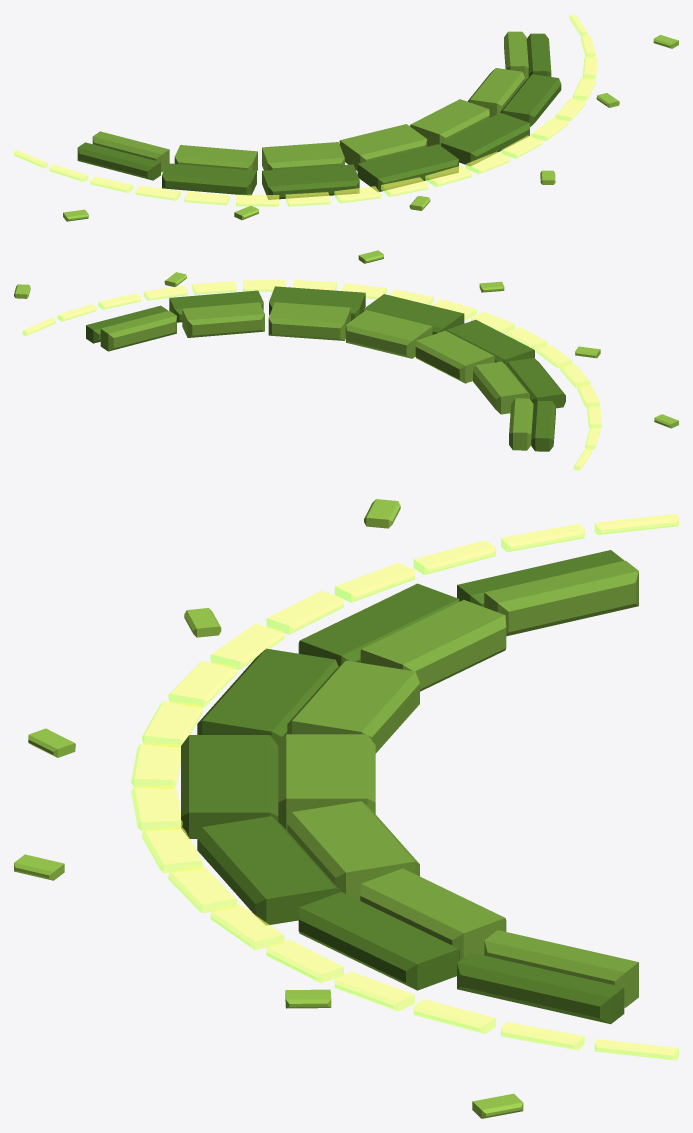
The model's file is fx_pet_leaf_slash.glb.
The picture shows the model from 3 angles, top to bottom: view 1: azimuth 30°, elevation 25°; view 2: azimuth 150°, elevation 25°; view 3: azimuth 270°, elevation 25°; orthographic projection. The views are drawn at different scales.
Parts seen in each view (by area): view 1: LeafSlash_LeavesDark, LeafSlash_LeavesLight, LeafSlash_GlowTrail, LeafSlash_Flecks; view 2: LeafSlash_LeavesLight, LeafSlash_LeavesDark, LeafSlash_GlowTrail, LeafSlash_Flecks; view 3: LeafSlash_LeavesDark, LeafSlash_LeavesLight, LeafSlash_GlowTrail, LeafSlash_Flecks.
Boxes of the visible parts, x1,y1,x2,y2 form: LeafSlash_LeavesDark: [77, 33, 561, 199]; LeafSlash_LeavesLight: [92, 31, 528, 172]; LeafSlash_GlowTrail: [14, 14, 597, 206]; LeafSlash_Flecks: [63, 35, 678, 221]; LeafSlash_LeavesLight: [100, 302, 533, 450]; LeafSlash_LeavesDark: [86, 286, 565, 451]; LeafSlash_GlowTrail: [22, 280, 601, 470]; LeafSlash_Flecks: [14, 250, 678, 428]; LeafSlash_LeavesDark: [181, 550, 624, 1024]; LeafSlash_LeavesLight: [278, 560, 638, 1007]; LeafSlash_GlowTrail: [131, 513, 678, 1060]; LeafSlash_Flecks: [14, 499, 523, 1118].
Size of the model in its own units: 4.48 by 0.12 by 2.05.
